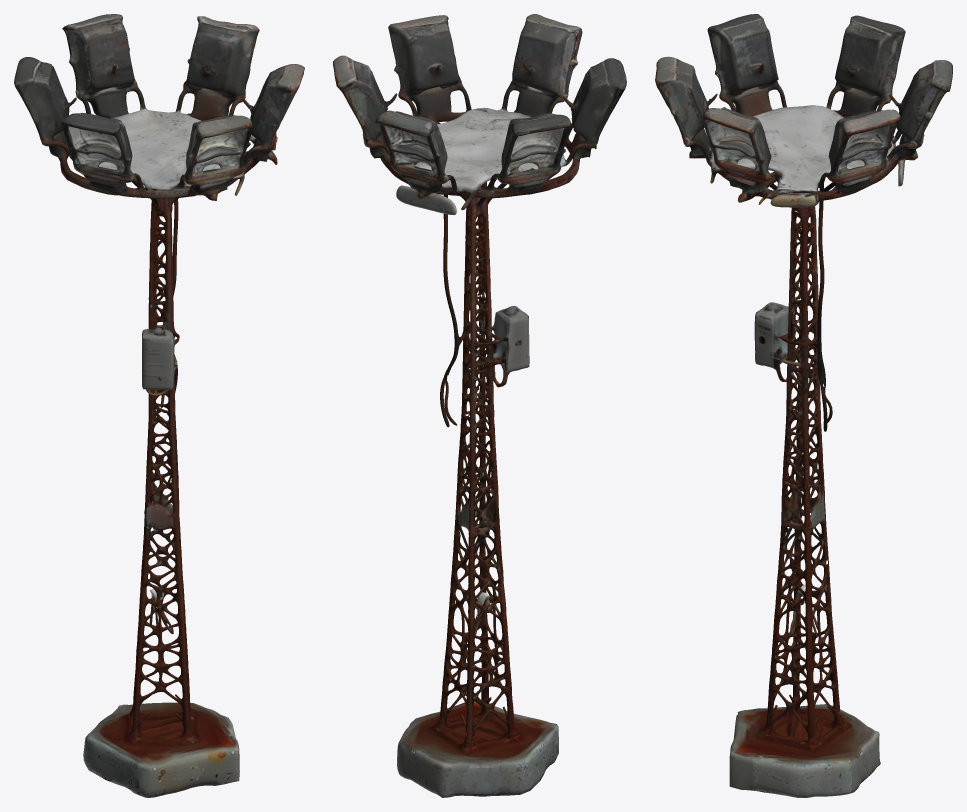
Rendered from g67_floodlight_mast.glb.
3 views of the same model, side by side, from view 1: azimuth 30°, elevation 25°; view 2: azimuth 150°, elevation 25°; view 3: azimuth 270°, elevation 25° (orthographic).
Visible parts, largest first — view 1: tripo_node_ab107c9a; view 2: tripo_node_ab107c9a; view 3: tripo_node_ab107c9a.
Part boxes in pixels (x1,y1,x2,y2): tripo_node_ab107c9a: (14,14,304,797); tripo_node_ab107c9a: (333,14,626,797); tripo_node_ab107c9a: (655,14,952,797).
Bounding box in the file's own units: 35.68 × 97.72 × 37.66.
Materials: 1 (1 with a texture image).
